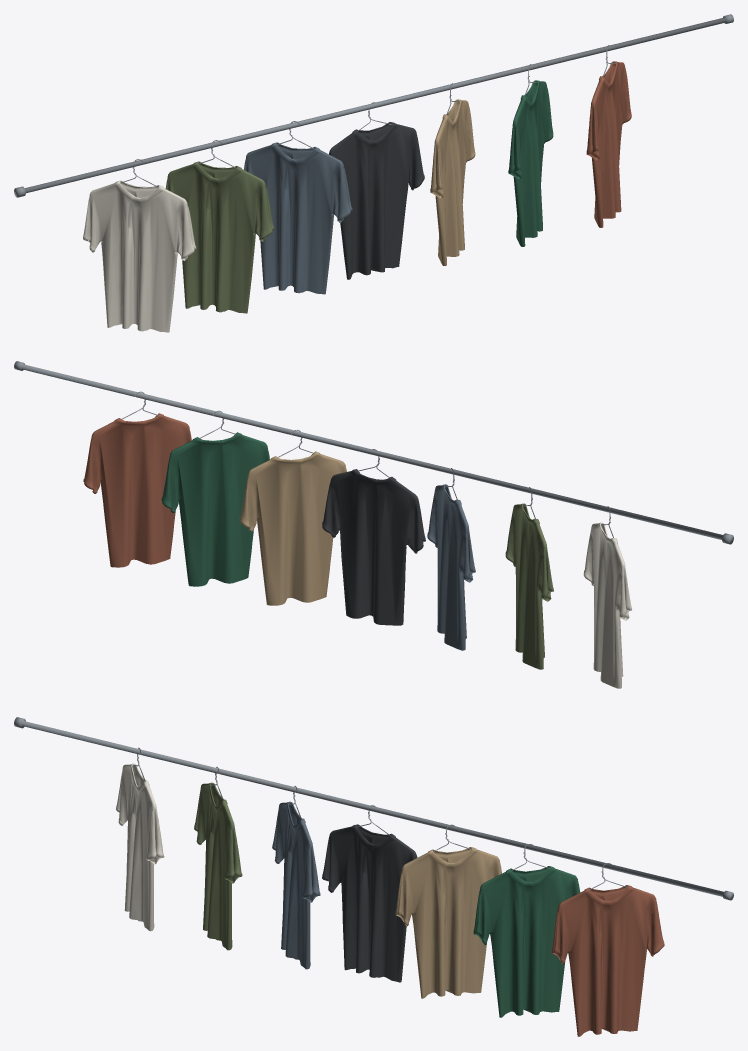
The model's file is hero-rack.glb.
3 views of the same model, one above another, from view 1: azimuth 30°, elevation 25°; view 2: azimuth 150°, elevation 25°; view 3: azimuth 330°, elevation 25° (orthographic).
Parts seen in each view (by area): view 1: Shirt_01, Shirt_02, Shirt_03, Shirt_04, Shirt_07, Shirt_05, Shirt_06, Rail_Top; view 2: Shirt_04, Shirt_05, Shirt_07, Shirt_06, Shirt_03, Shirt_02, Shirt_01, Rail_Top; view 3: Shirt_07, Shirt_06, Shirt_05, Shirt_04, Shirt_03, Shirt_01, Shirt_02, Rail_Top.
Boxes of the visible parts, x1,y1,x2,y2 form: Shirt_01: [83, 180, 196, 332]; Shirt_02: [165, 161, 274, 313]; Shirt_03: [244, 142, 352, 294]; Shirt_04: [329, 122, 424, 279]; Shirt_07: [586, 61, 631, 227]; Shirt_05: [430, 99, 475, 265]; Shirt_06: [508, 80, 553, 246]; Rail_Top: [14, 14, 733, 197]; Shirt_04: [322, 469, 425, 625]; Shirt_05: [239, 451, 346, 605]; Shirt_07: [83, 413, 191, 567]; Shirt_06: [161, 432, 269, 586]; Shirt_03: [427, 484, 475, 650]; Shirt_02: [505, 503, 553, 669]; Shirt_01: [583, 522, 631, 688]; Rail_Top: [14, 361, 733, 544]; Shirt_07: [551, 885, 664, 1036]; Shirt_06: [473, 866, 580, 1017]; Shirt_05: [395, 847, 501, 998]; Shirt_04: [322, 824, 417, 982]; Shirt_03: [272, 801, 320, 969]; Shirt_01: [116, 763, 164, 931]; Shirt_02: [194, 782, 242, 950]; Rail_Top: [14, 717, 733, 900].
Bounding box in the file's own units: 5.31 × 1.22 × 0.5461.
